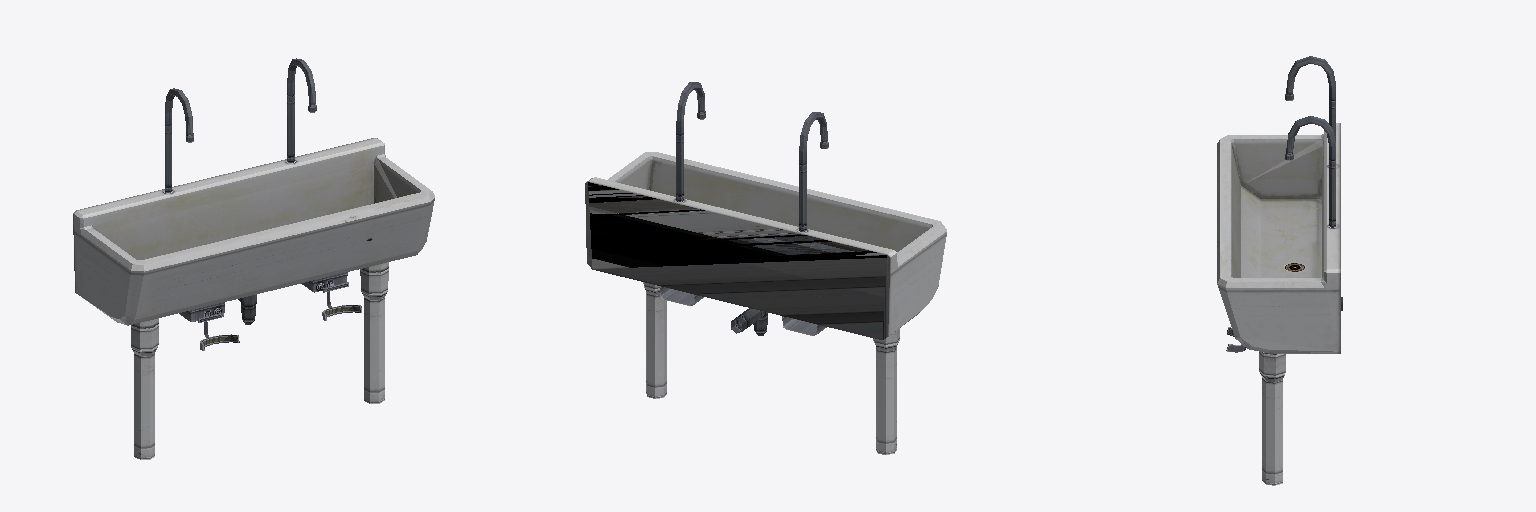
The picture shows the model from 3 angles: view 1: azimuth 30°, elevation 25°; view 2: azimuth 150°, elevation 25°; view 3: azimuth 270°, elevation 25°; orthographic projection.
Visible parts, largest first — view 1: Medical_Surgical_Sink; view 2: Medical_Surgical_Sink; view 3: Medical_Surgical_Sink.
Boxes of the visible parts, box(x1,y1,x2,y2) form: Medical_Surgical_Sink: box(73, 58, 434, 459); Medical_Surgical_Sink: box(585, 82, 946, 454); Medical_Surgical_Sink: box(1217, 56, 1342, 485).
Size of the model in its own units: 155 by 164 by 55.2.
Materials: 1 (1 with a texture image).